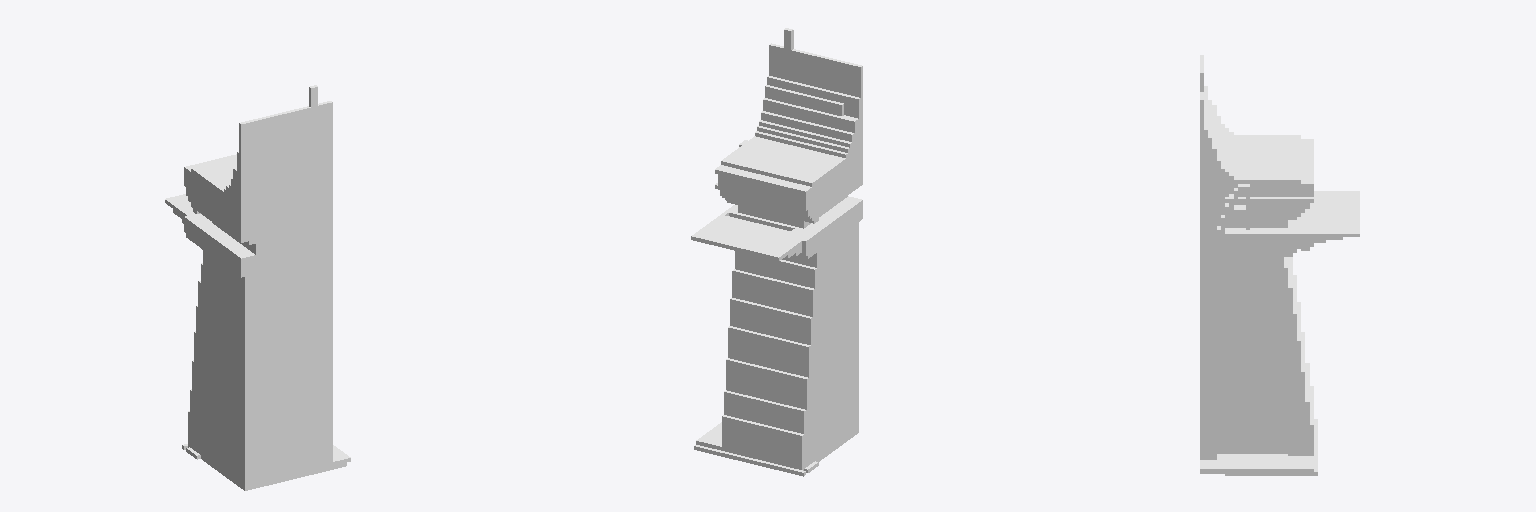
The model's file is ggg4.obj.
3 views of the same model, side by side, from view 1: azimuth 30°, elevation 25°; view 2: azimuth 150°, elevation 25°; view 3: azimuth 270°, elevation 25° (orthographic).
Visible parts, largest first — view 1: object 1; view 2: object 1; view 3: object 1.
Part boxes in pixels (bbox=[...]): object 1: bbox=[165, 85, 350, 490]; object 1: bbox=[691, 28, 862, 476]; object 1: bbox=[1200, 55, 1359, 475].
Bounding box in the file's own units: 3 × 10.1 × 3.8.